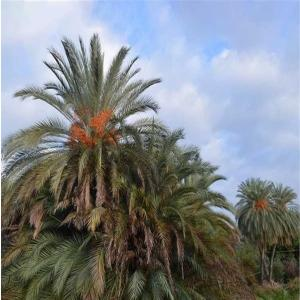palm tree: (1, 31, 251, 298), (234, 176, 298, 285)
